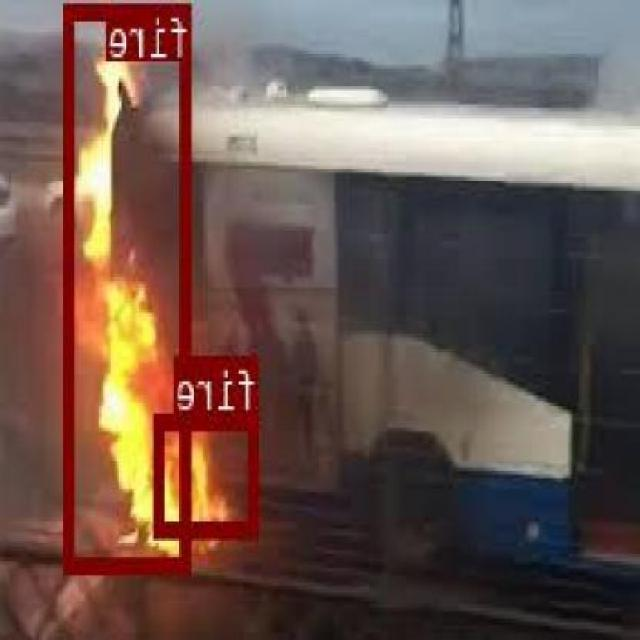Fire: (65, 1, 193, 572), (156, 413, 262, 535)
